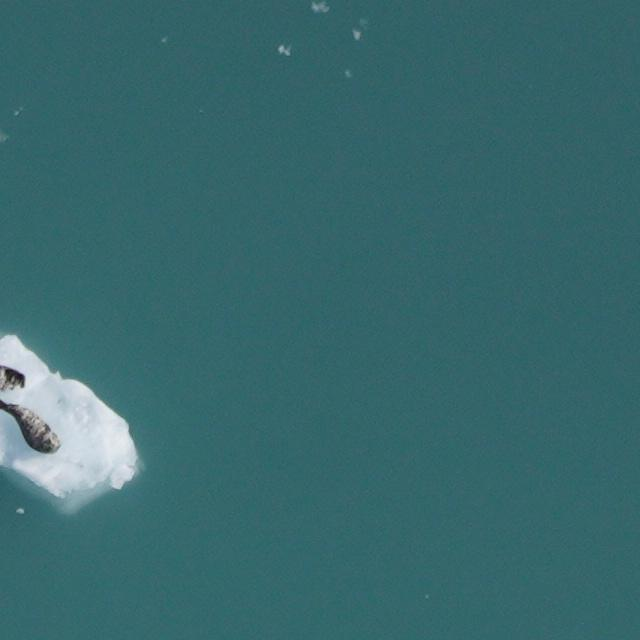seal: (0, 387, 66, 464), (0, 366, 26, 391)
